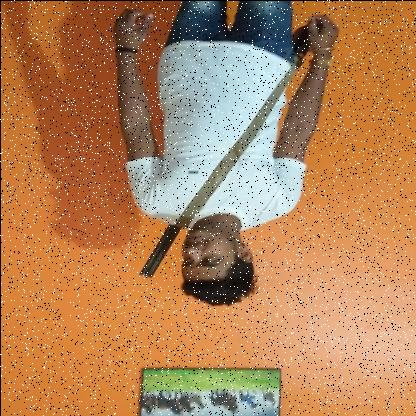rifle: (136, 20, 326, 280)
